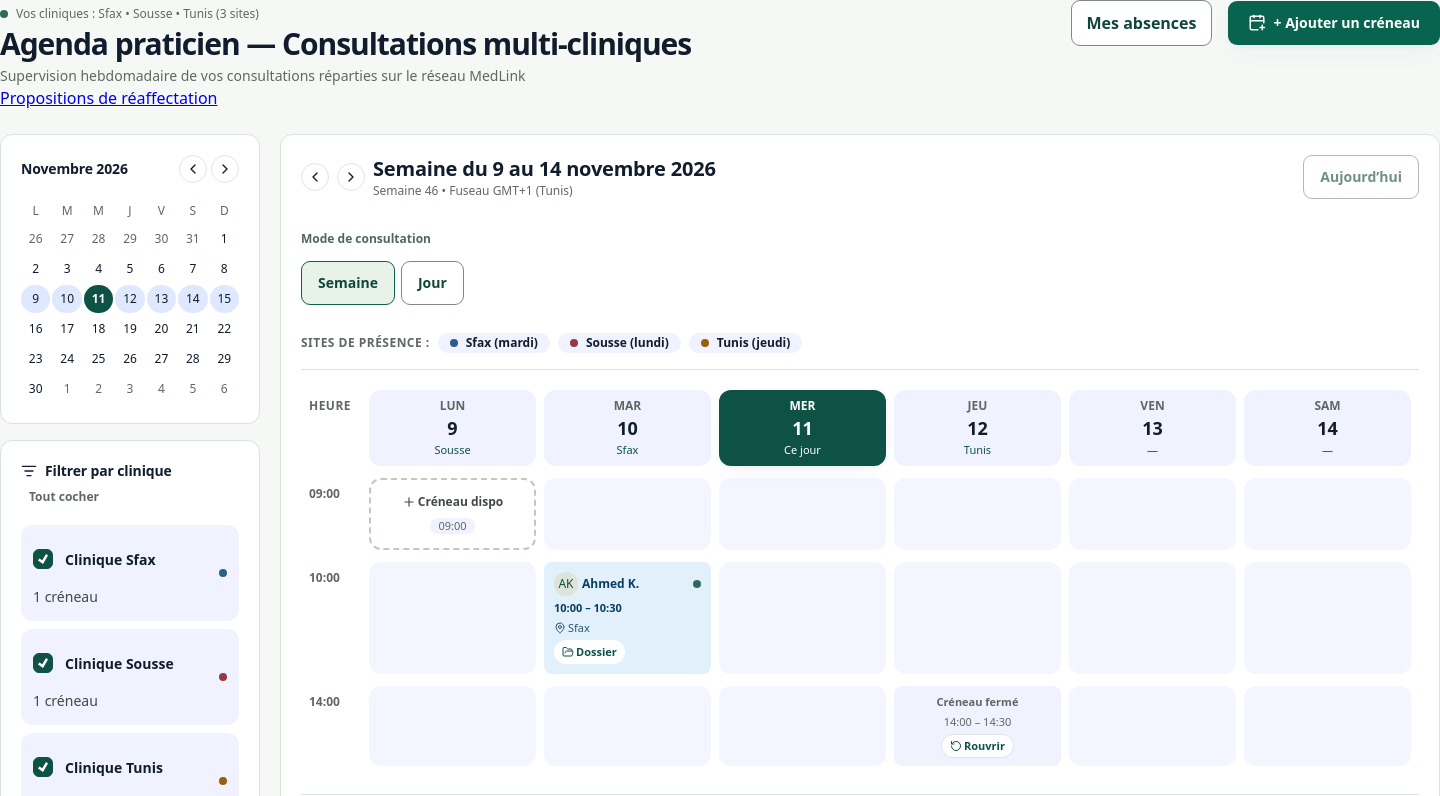
Test: the previous and next buttons move a week, "Aujourd’hui" comes back
The image size is (1440, 796).
Expected: the heading "Semaine du 9 au 14 novembre 2026" is shown, [373,155,716,183]
Click the button named "Semaine suivante" at point(351, 177), box [337,163,365,191]
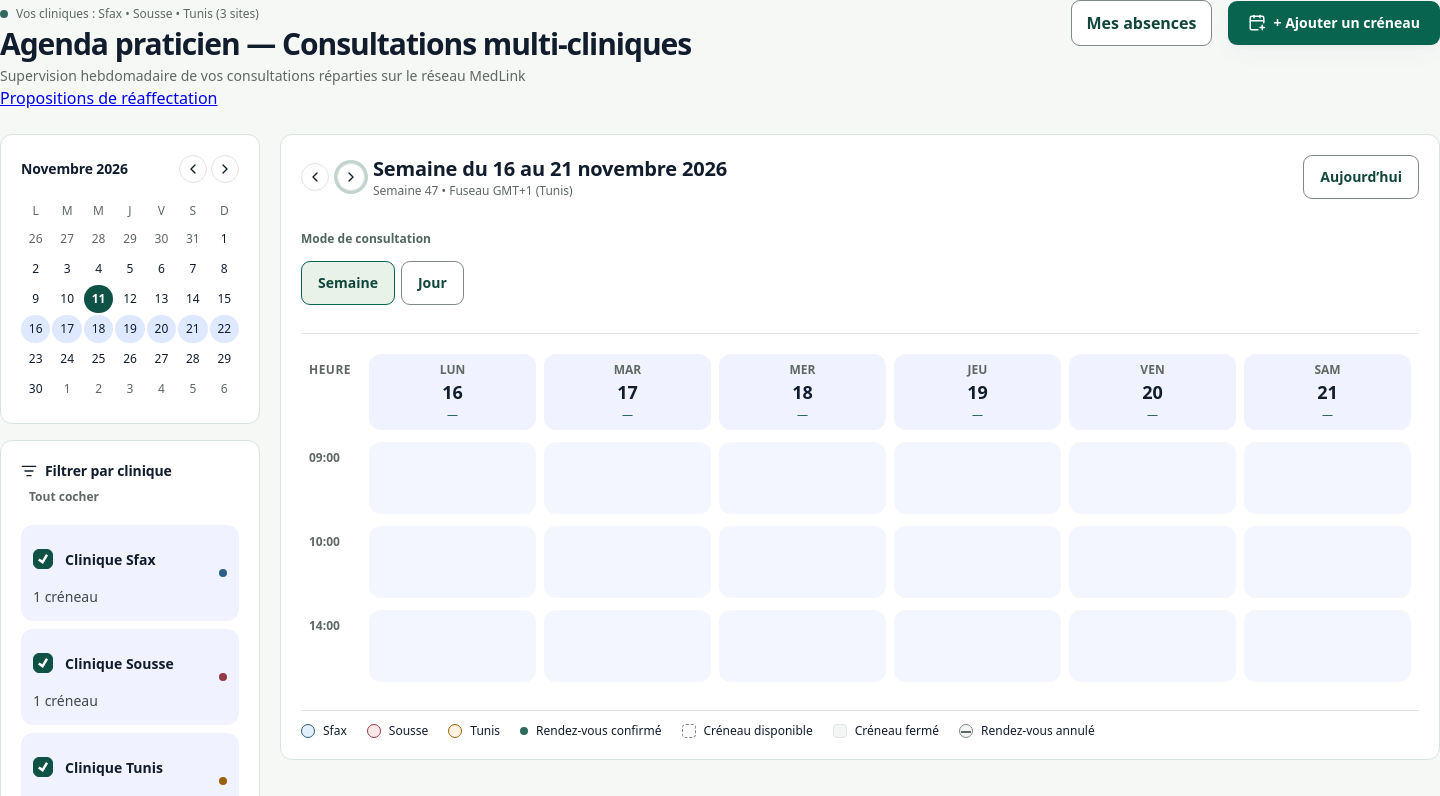
Expected: the heading "Semaine du 16 au 21 novembre 2026" is shown, [373,155,727,183]
Click the button named "Semaine précédente" at point(315, 177), box [301,163,329,191]
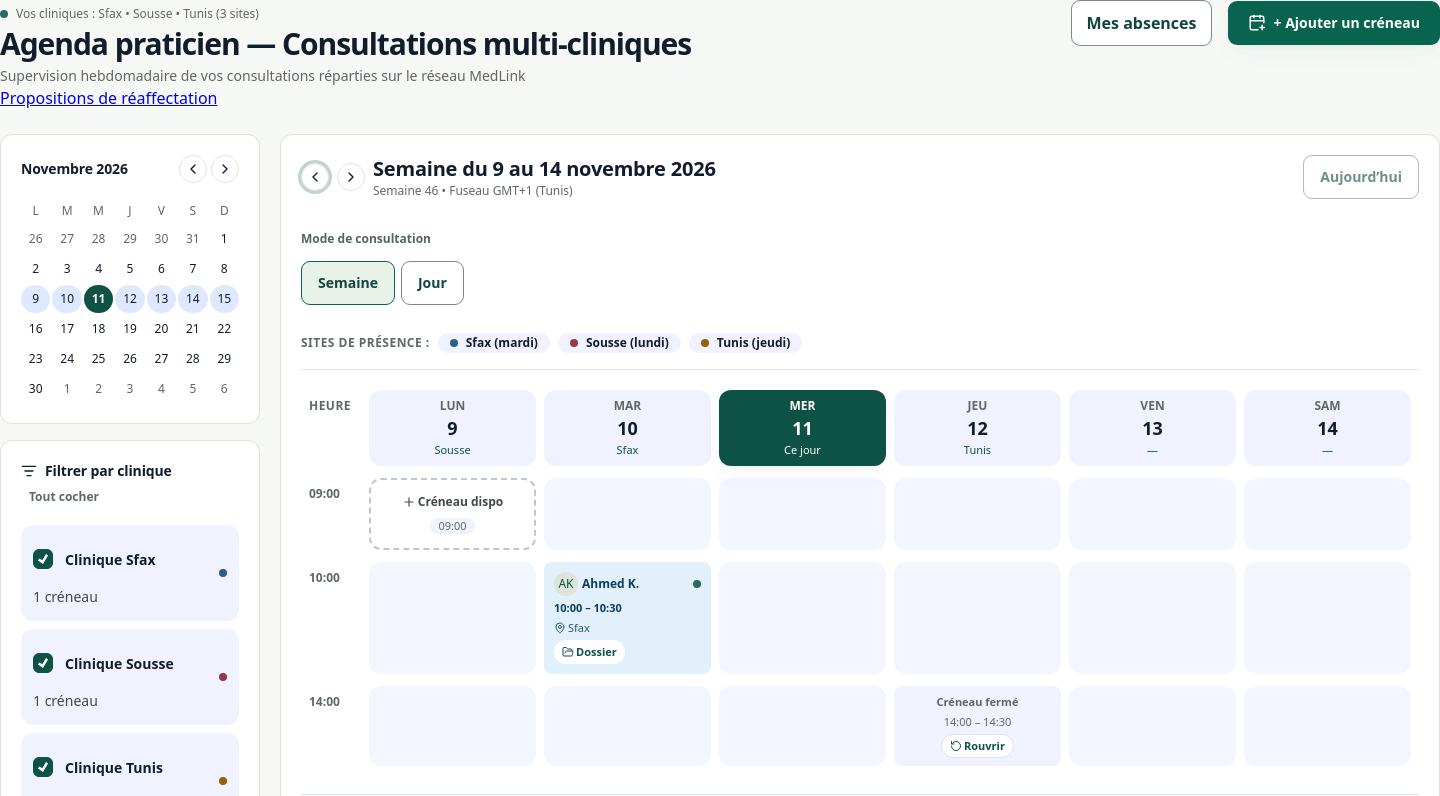
Click the button named "Semaine précédente" at point(315, 177), box [301,163,329,191]
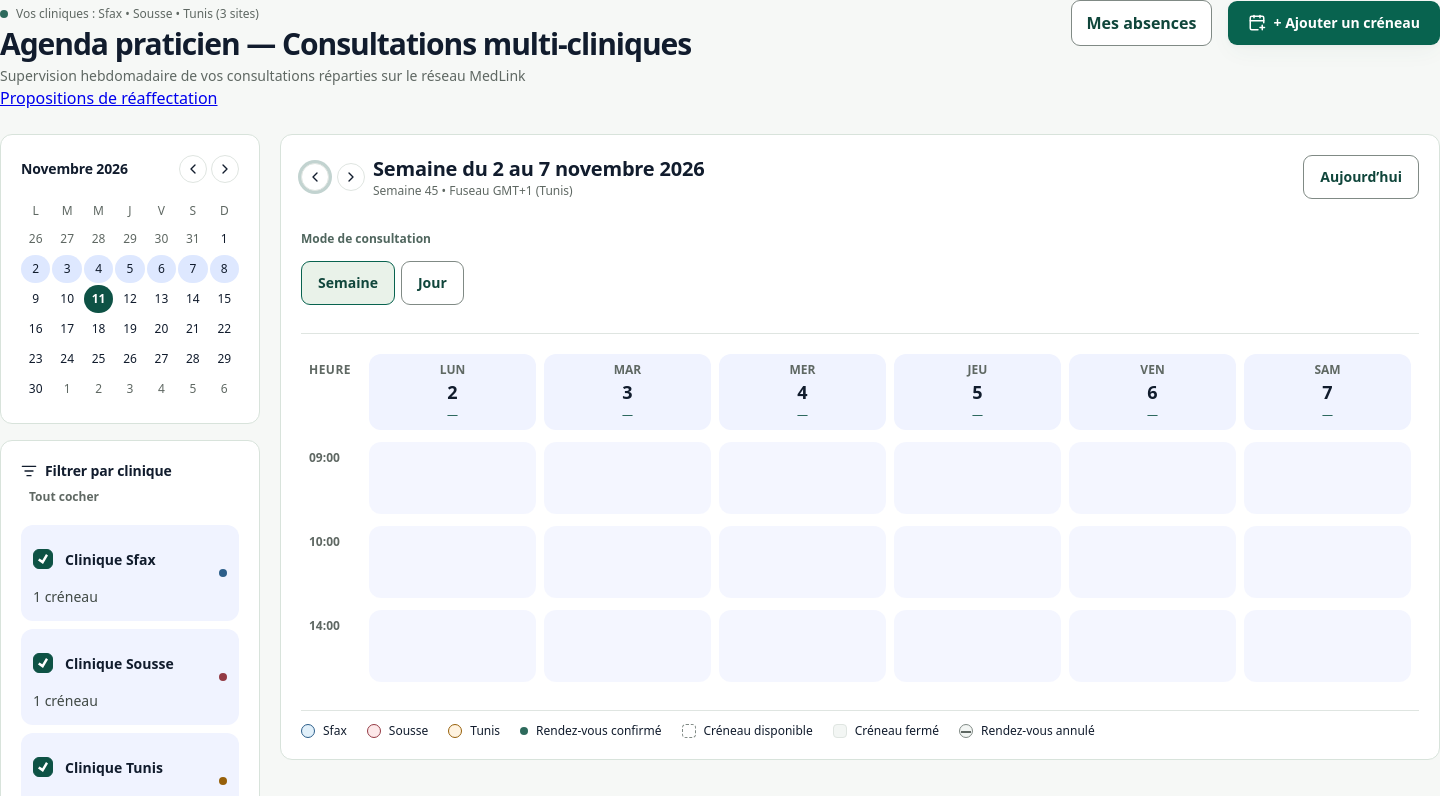
Expected: the heading "Semaine du 2 au 7 novembre 2026" is shown, [373,155,704,183]
Click the button "Aujourd’hui" at point(1361, 177), box [1303,155,1419,199]
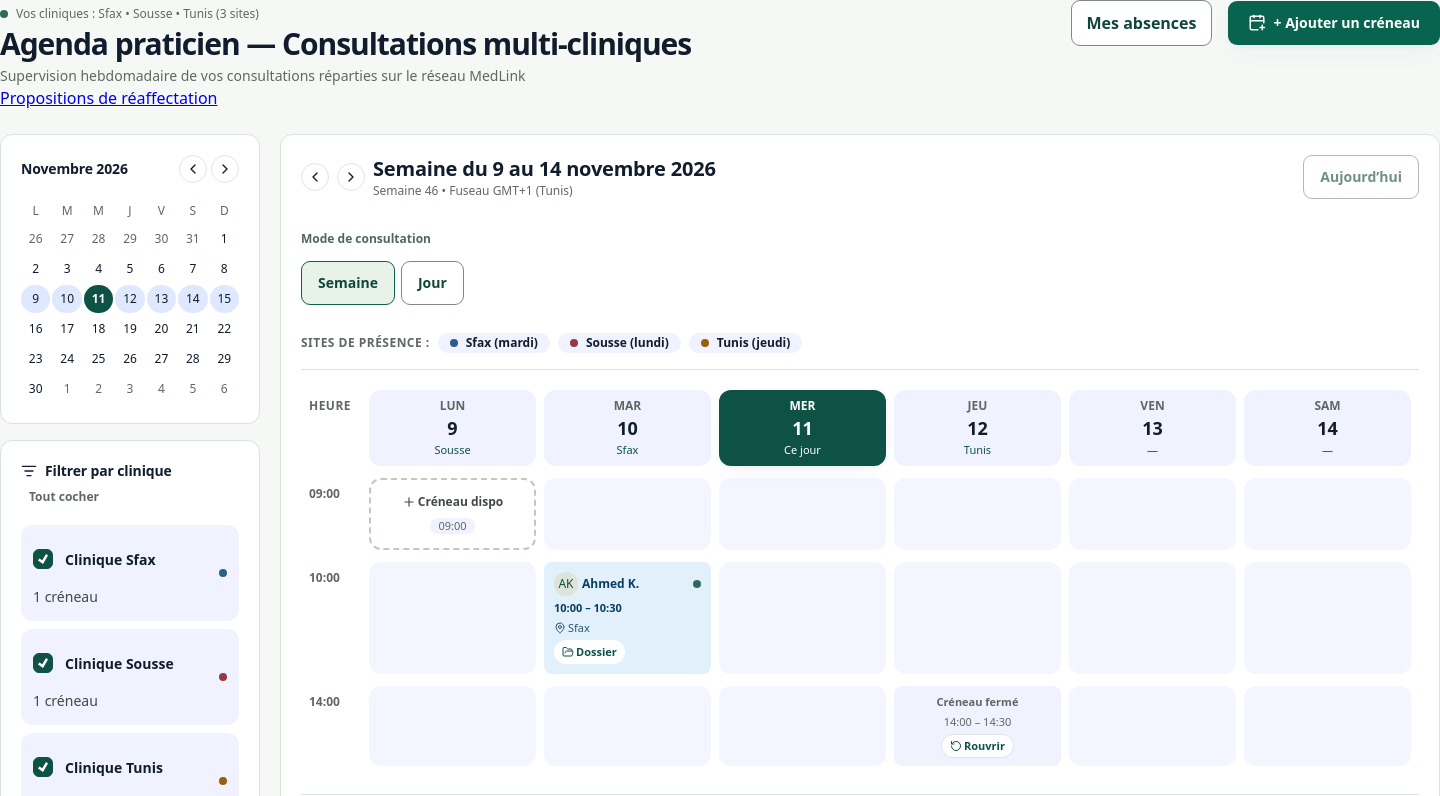
Expected: the heading "Semaine du 9 au 14 novembre 2026" is shown, [373,155,716,183]
